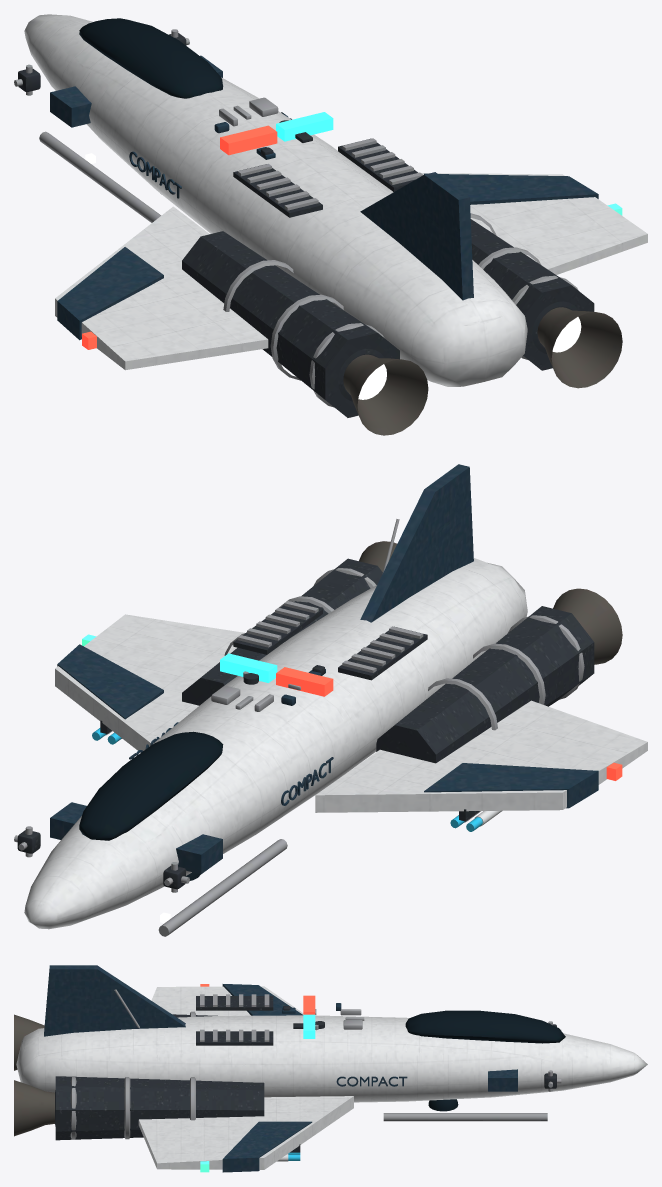
The model's file is game-cutter.glb.
3 views of the same model, one above another, from view 1: azimuth 30°, elevation 25°; view 2: azimuth 150°, elevation 25°; view 3: azimuth 270°, elevation 25° (orthographic). The views are drawn at different scales.
Parts seen in each view (by area): view 1: cutter; view 2: cutter; view 3: cutter.
Boxes of the visible parts, box(x1,y1,x2,y2) form: cutter: box(14, 14, 647, 435); cutter: box(14, 464, 647, 936); cutter: box(14, 965, 647, 1172).
Bounding box in the file's own units: 14.3 × 5.14 × 21.26.
7 materials, 2 textured.
